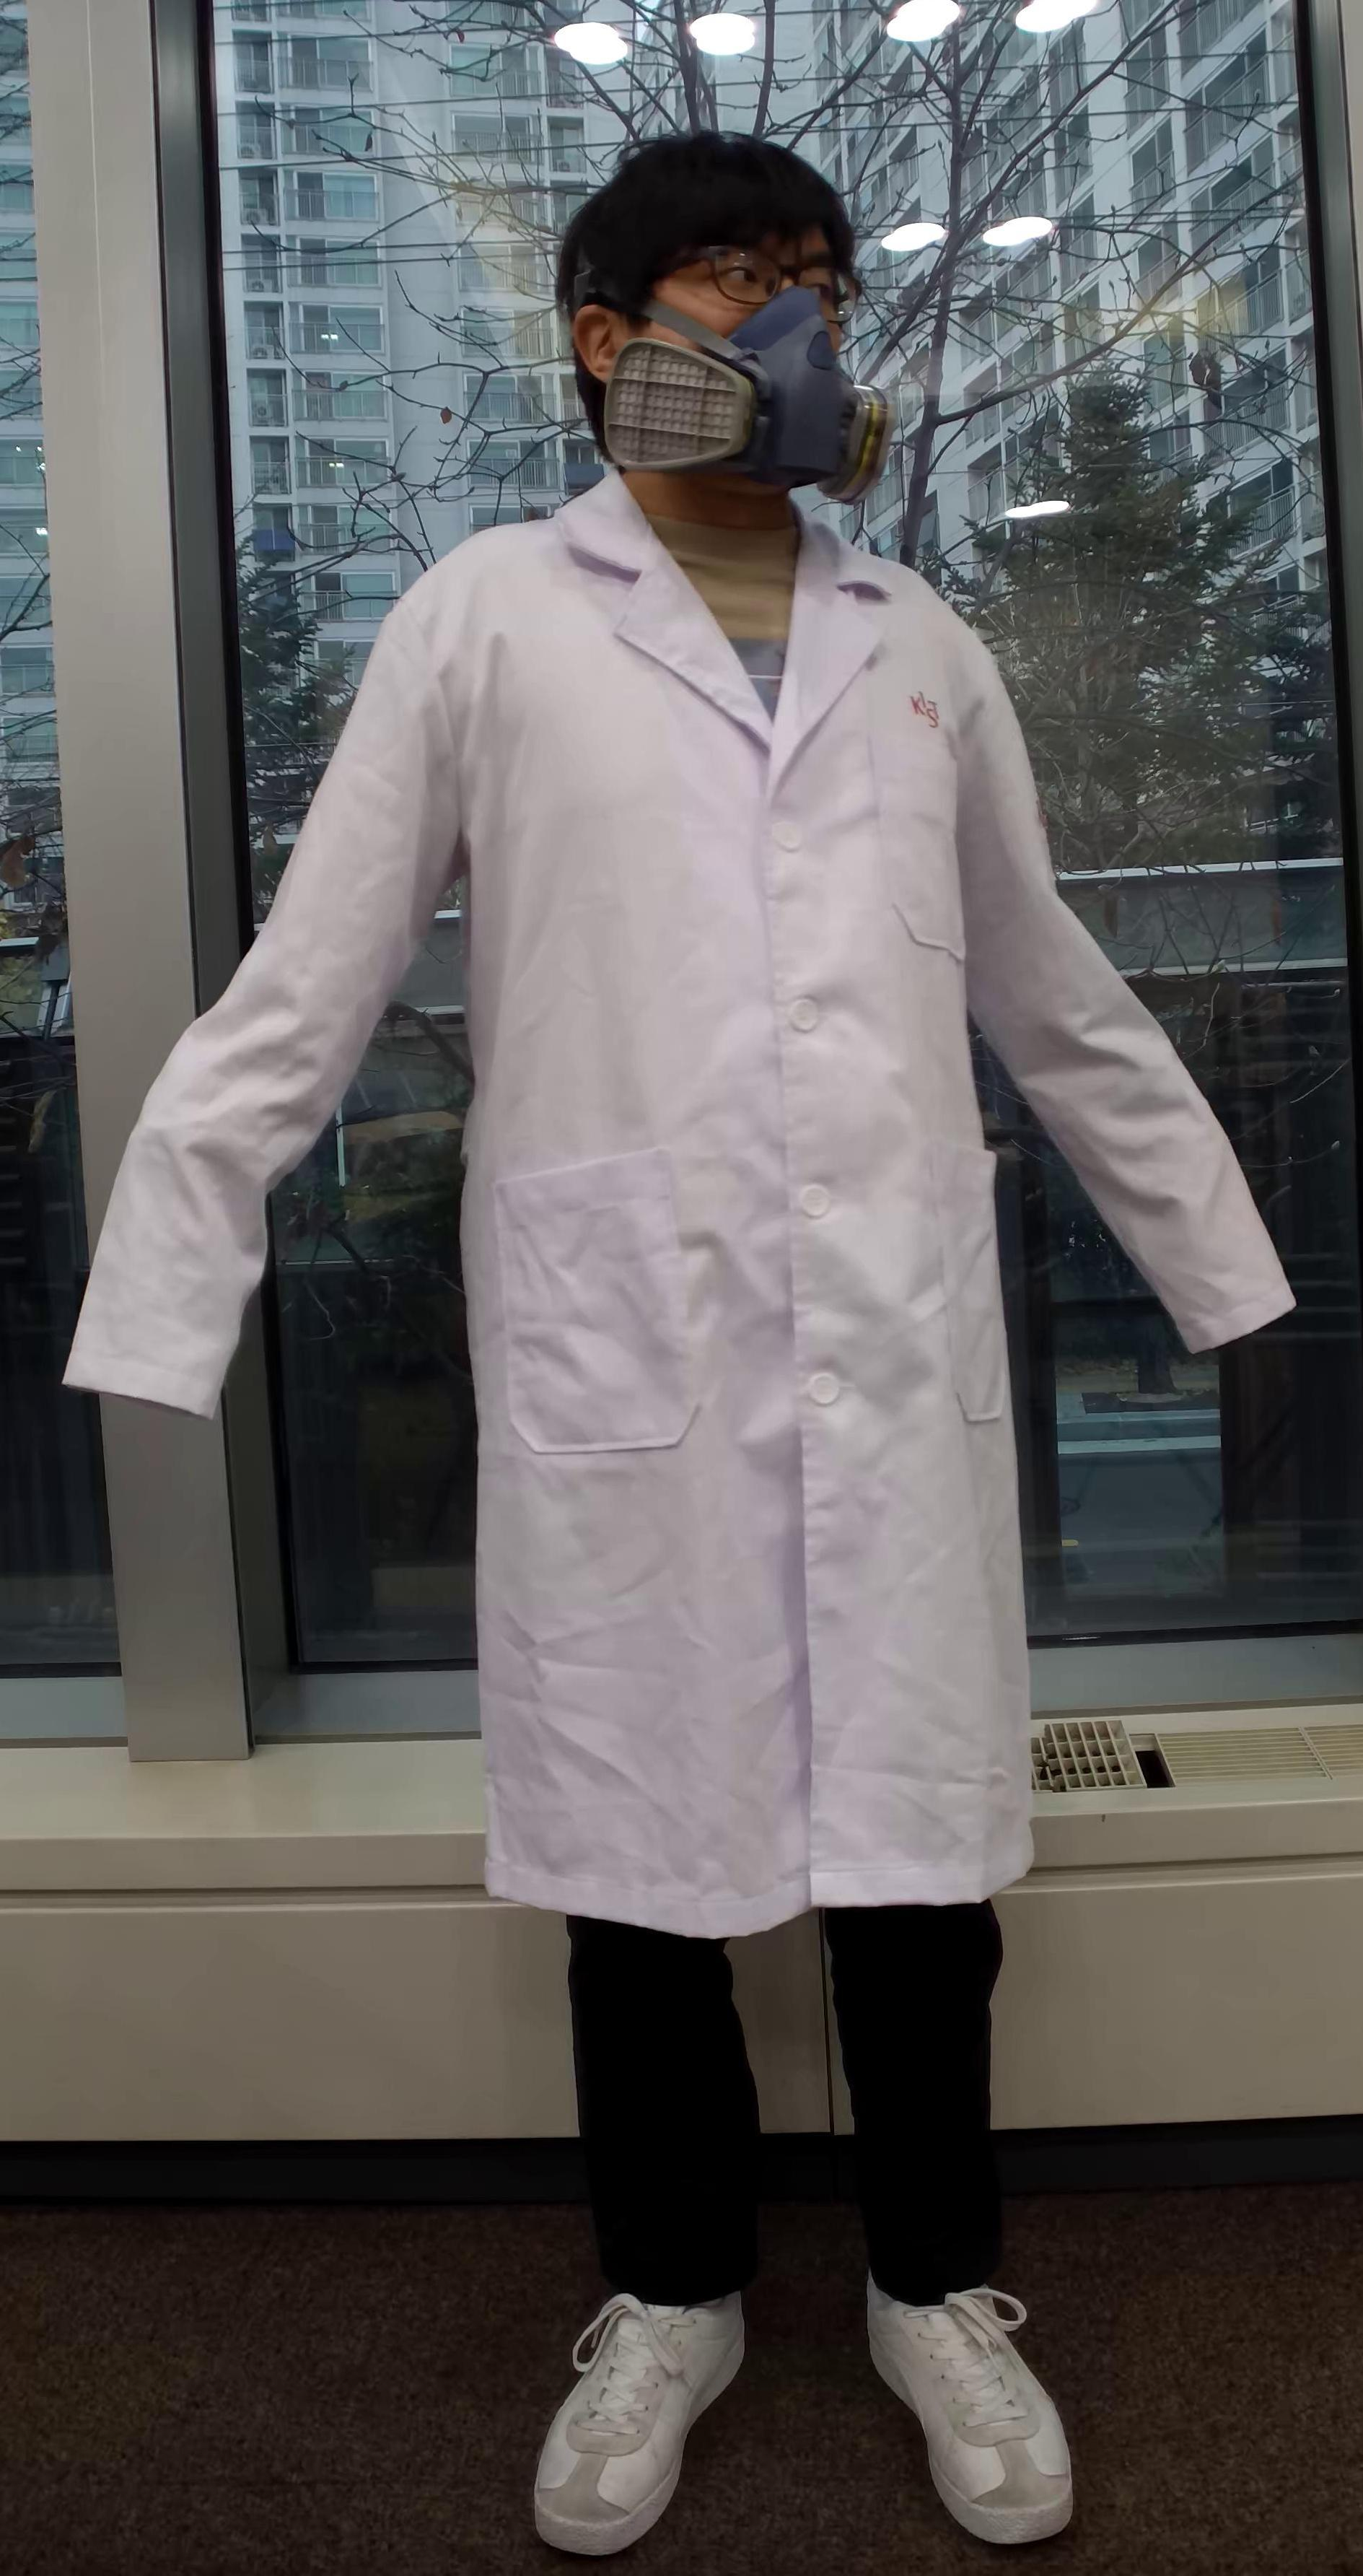lab_coat: (102, 564, 1305, 1929)
